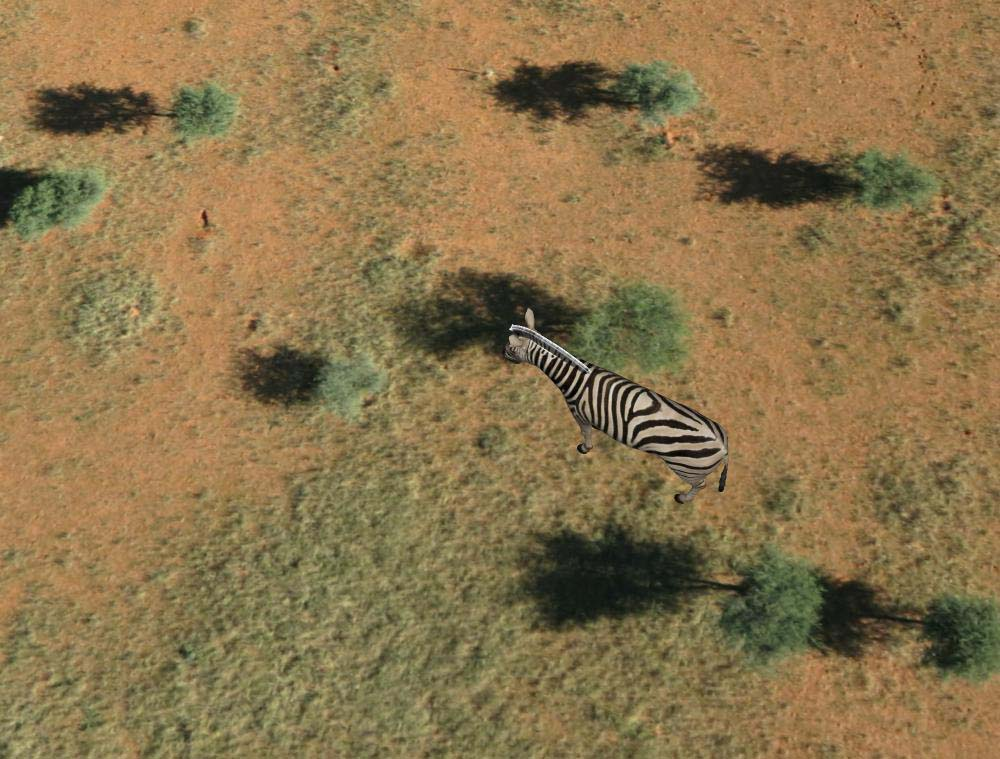zebra: (502, 308, 731, 507)
